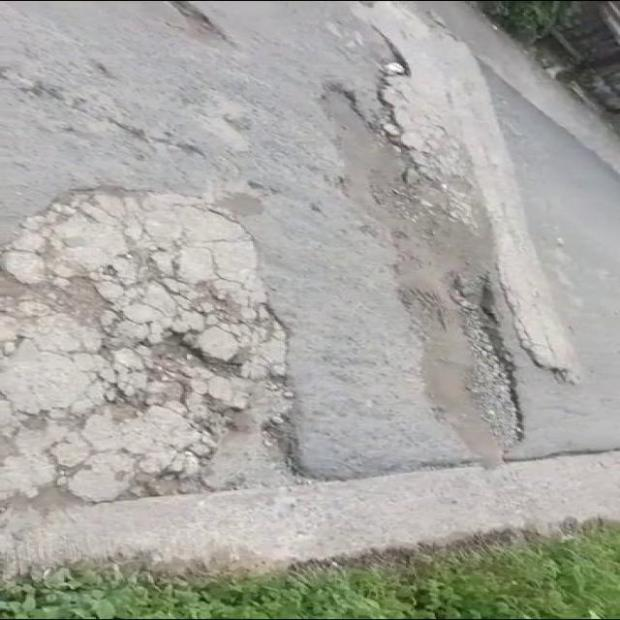lubang: (0, 191, 292, 503), (322, 82, 522, 463), (322, 11, 413, 150), (161, 0, 248, 61)
